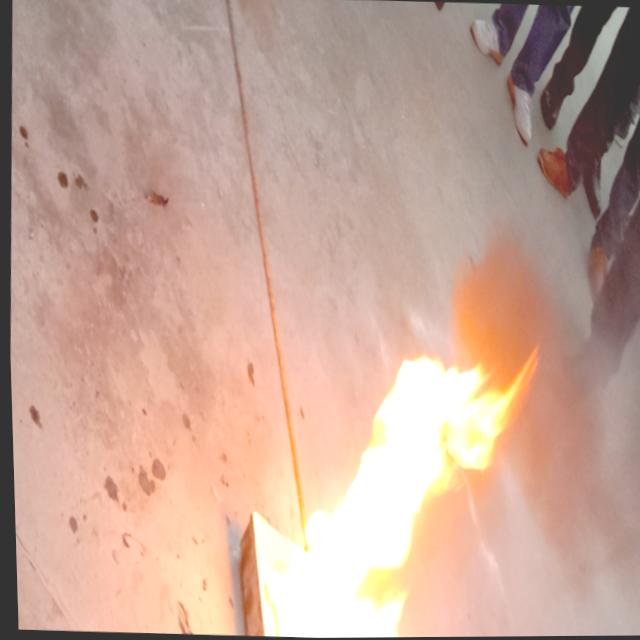Fire: (238, 332, 543, 639)
